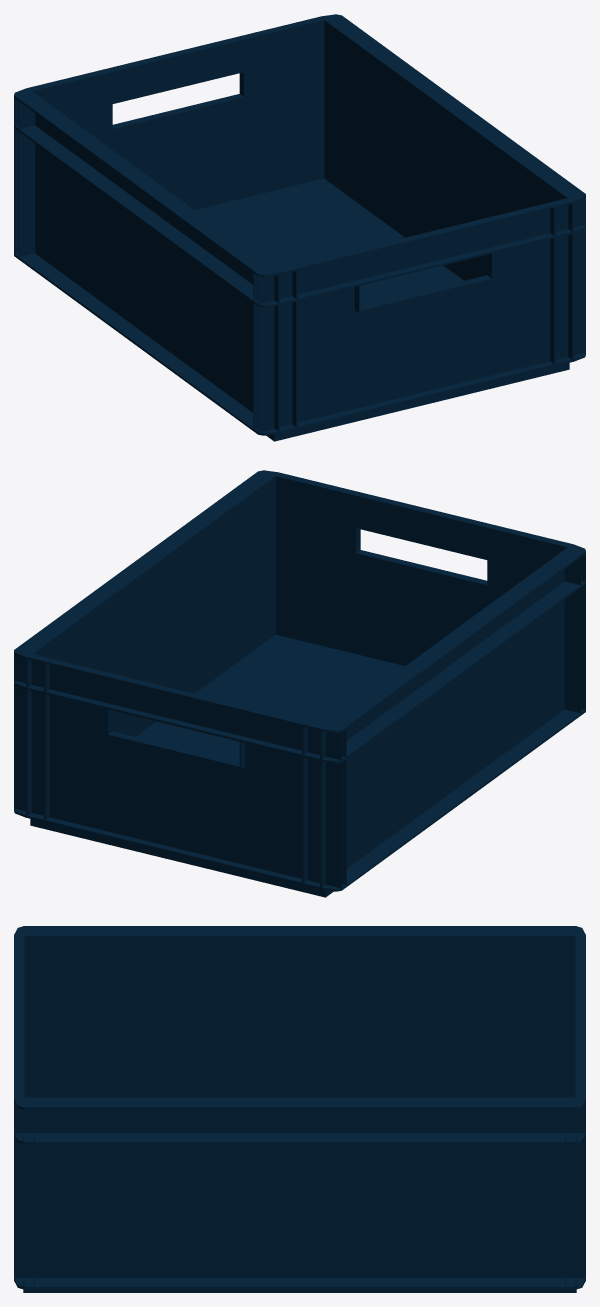
Rendered from EuroContainer_C.dae.
3 renders of one model, top to bottom at view 1: azimuth 30°, elevation 25°; view 2: azimuth 150°, elevation 25°; view 3: azimuth 270°, elevation 25°, orthographic. The views are drawn at different scales.
Parts seen in each view (by area): view 1: EuroContainer_C; view 2: EuroContainer_C; view 3: EuroContainer_C.
Boxes of the visible parts, x1,y1,x2,y2 form: EuroContainer_C: (14,14,585,441); EuroContainer_C: (14,470,585,897); EuroContainer_C: (14,926,585,1292).
Bounding box in the file's own units: 0.3 × 0.4 × 0.15.
1 material, 1 textured.
